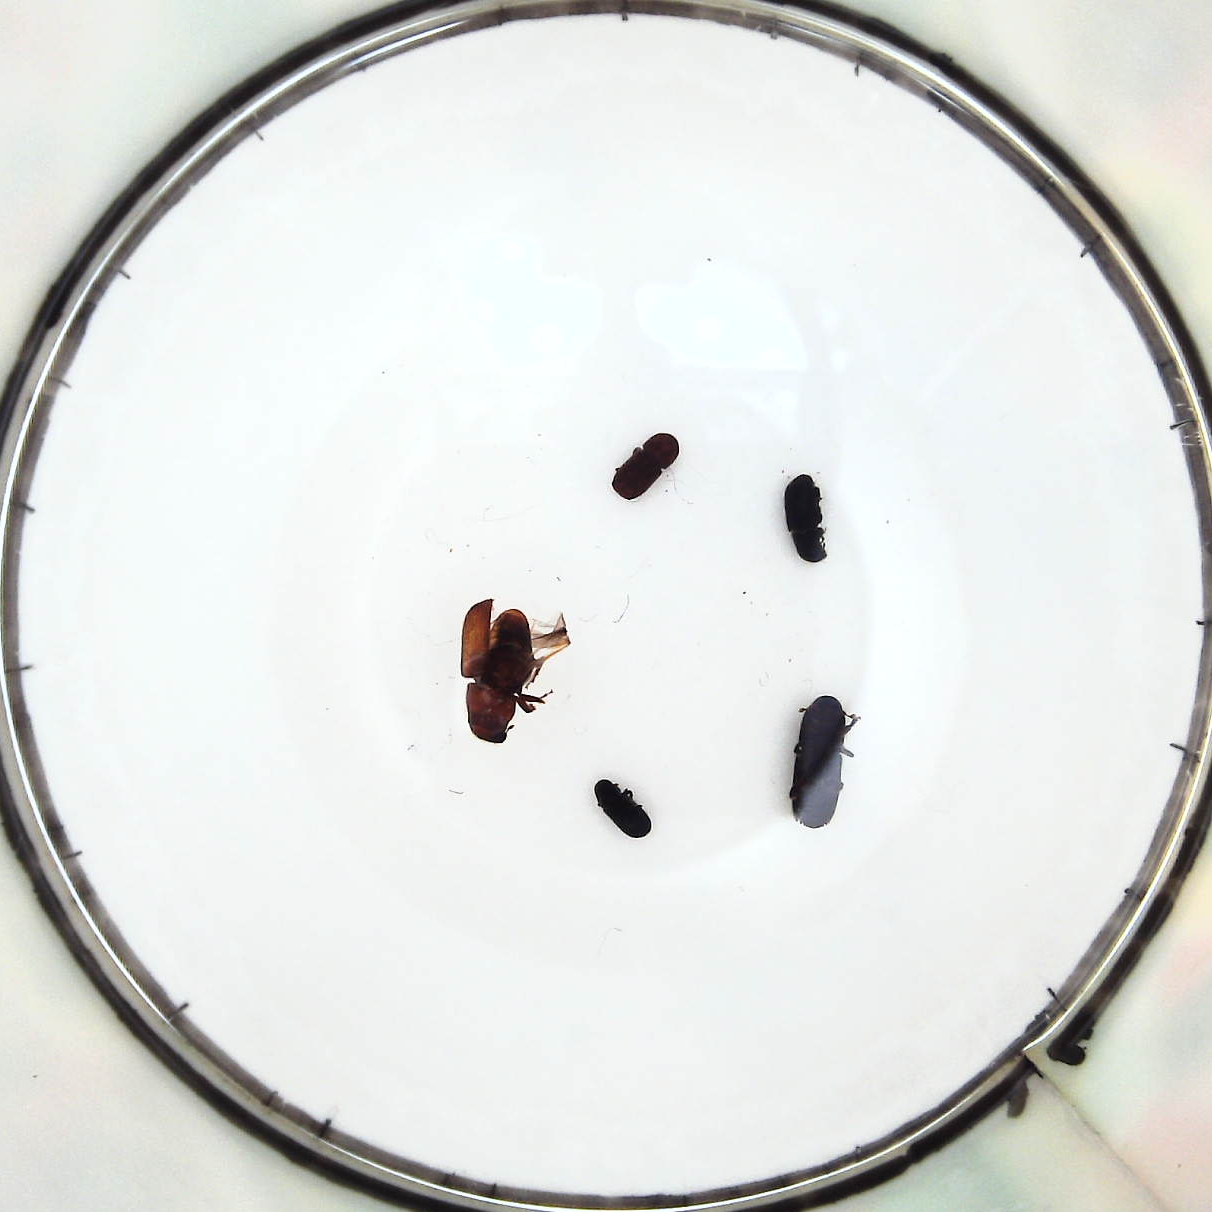Boerner: (791, 691, 856, 824)
Leconte: (456, 592, 566, 746)
Linnaeus: (613, 434, 678, 507)
armandi: (781, 473, 830, 570)
coleoptera: (586, 778, 654, 836)
